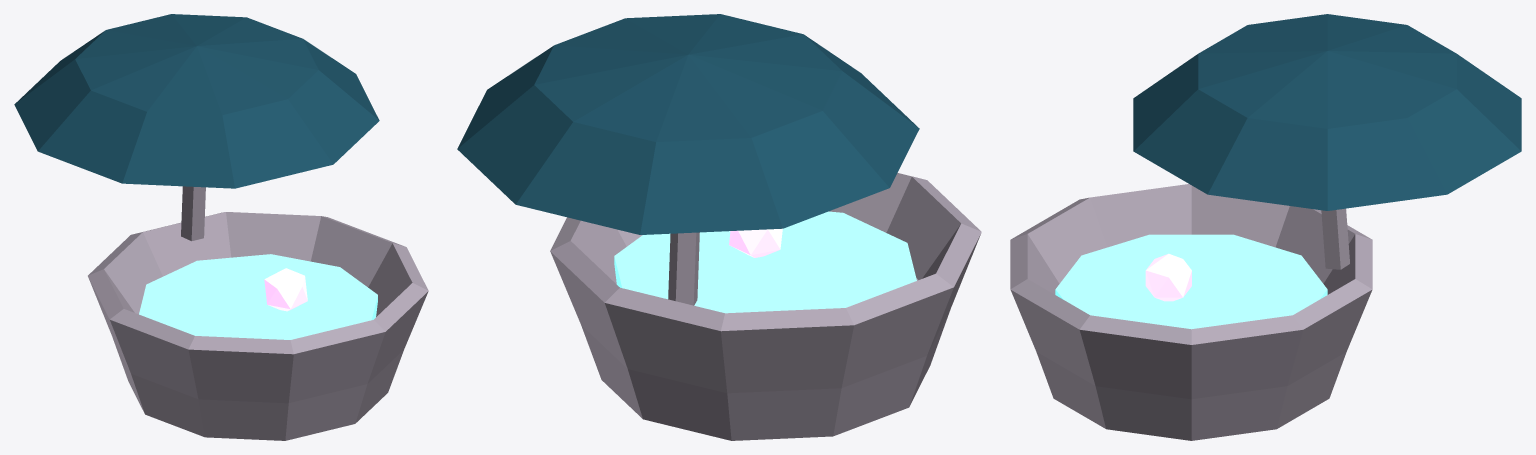
Rendered from berceau_champignon_modele.glb.
3 renders of one model, left to right at view 1: azimuth 30°, elevation 25°; view 2: azimuth 150°, elevation 25°; view 3: azimuth 270°, elevation 25°, orthographic. The views are drawn at different scales.
Visible parts, largest first — view 1: L4, L1.005, P3.011, P7.016, P6.016; view 2: L4, L1.005, P3.011, P6.016, P7.016; view 3: L4, L1.005, P3.011, P7.016, P6.016.
Part boxes in pixels (bbox=[...]): L4: bbox=[14, 14, 379, 188]; L1.005: bbox=[88, 212, 428, 440]; P3.011: bbox=[139, 254, 377, 339]; P7.016: bbox=[264, 268, 307, 311]; P6.016: bbox=[181, 186, 205, 241]; L4: bbox=[457, 14, 919, 234]; L1.005: bbox=[550, 173, 981, 440]; P3.011: bbox=[614, 211, 916, 313]; P6.016: bbox=[668, 232, 699, 305]; P7.016: bbox=[729, 228, 782, 257]; L4: bbox=[1133, 14, 1521, 210]; L1.005: bbox=[1010, 184, 1372, 440]; P3.011: bbox=[1055, 234, 1327, 329]; P7.016: bbox=[1145, 253, 1191, 301]; P6.016: bbox=[1321, 208, 1349, 269].
Size of the model in its own units: 0.9 by 0.8 by 1.13.
